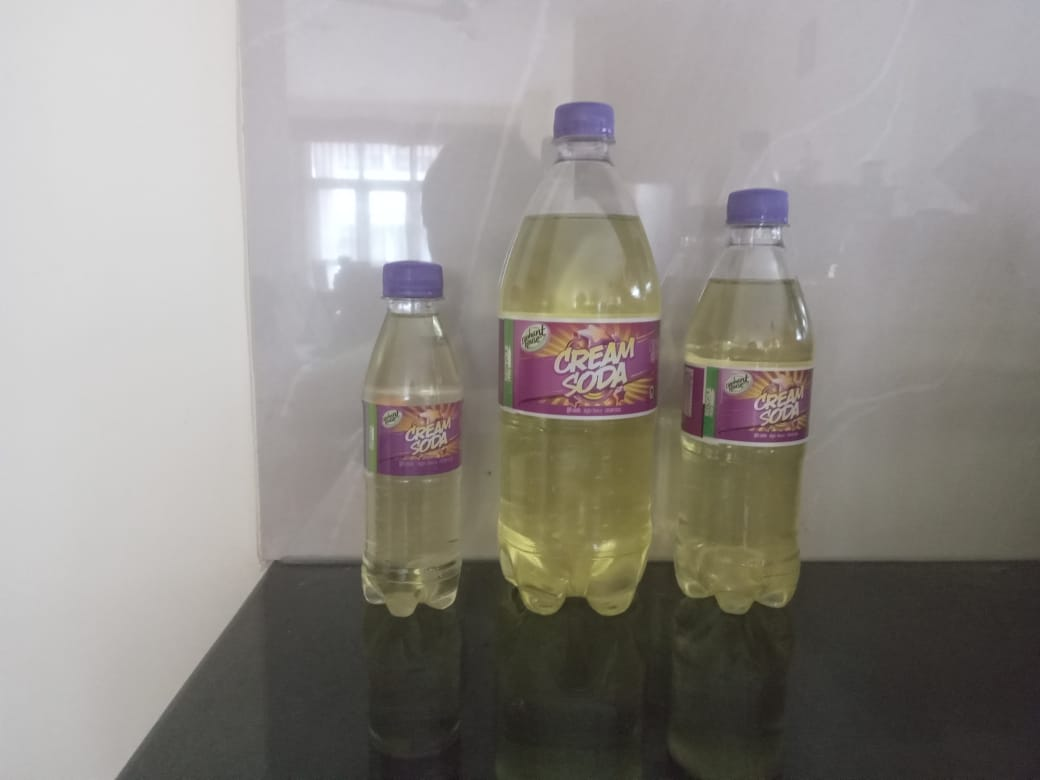M: (484, 98, 674, 640)
S: (670, 186, 814, 625)
Xs: (356, 254, 470, 633)
